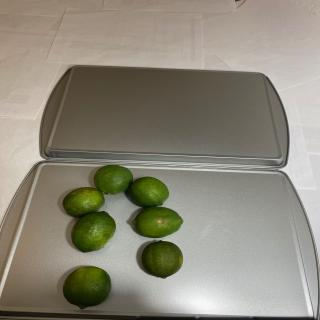Chilli: (61, 164, 185, 309)
Lemon: (62, 266, 112, 310), (71, 210, 116, 252), (141, 240, 183, 279), (132, 206, 183, 238), (62, 186, 105, 218), (129, 176, 169, 207), (94, 164, 134, 194)
